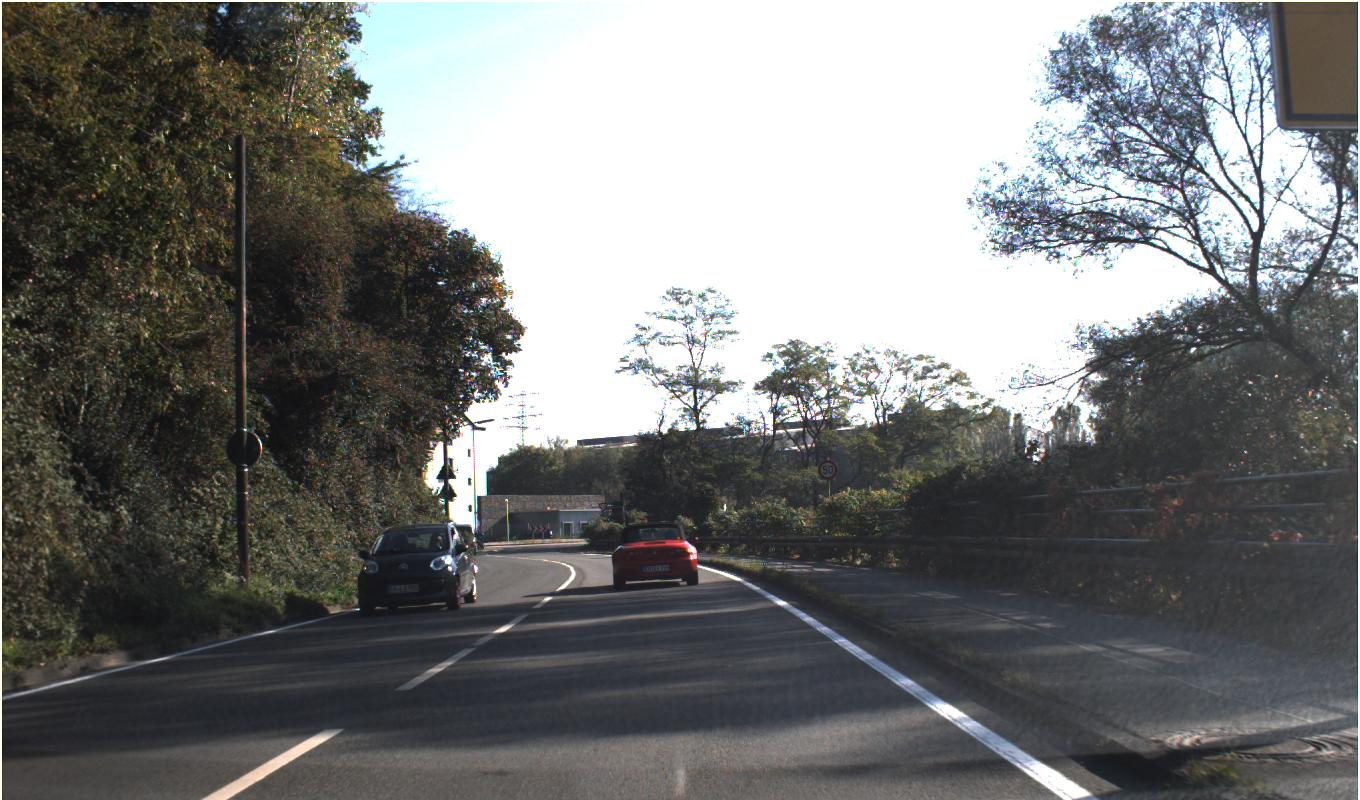prohibitory: (817, 459, 838, 480)
